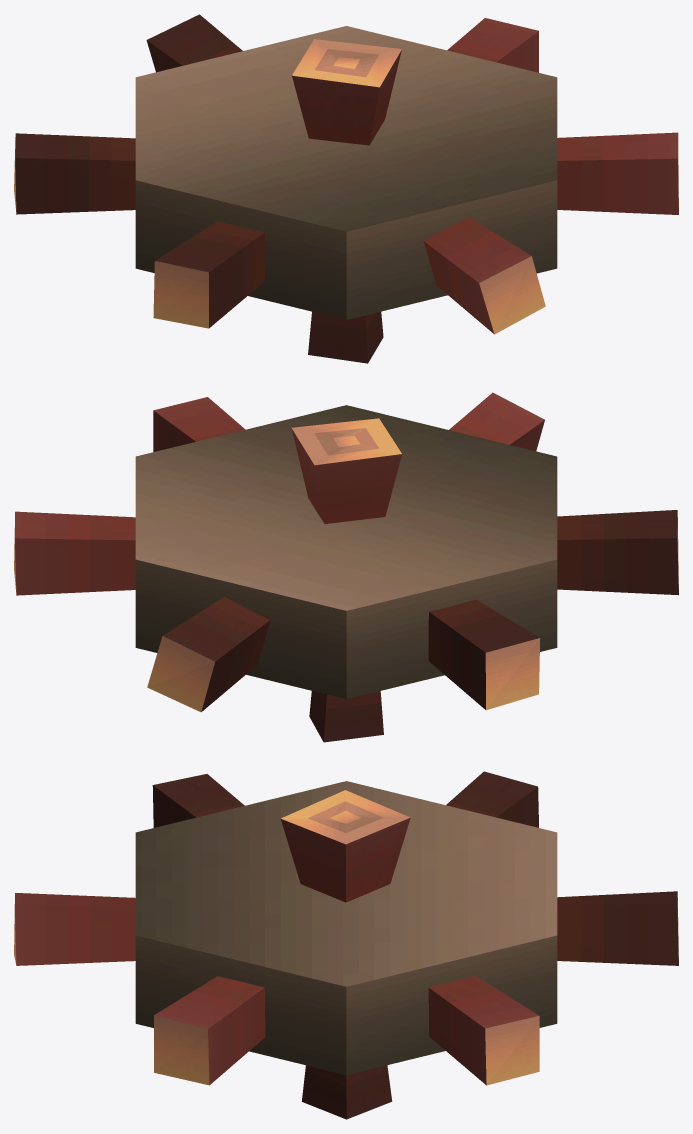
The model's file is Cog_Wheel_001.FBX.
The picture shows the model from 3 angles, top to bottom: view 1: azimuth 30°, elevation 25°; view 2: azimuth 150°, elevation 25°; view 3: azimuth 270°, elevation 25°; orthographic projection.
Parts seen in each view (by area): view 1: Cog_Wheel_001; view 2: Cog_Wheel_001; view 3: Cog_Wheel_001.
Part boxes in pixels (<box>): Cog_Wheel_001: <box>14,14,678,363</box>; Cog_Wheel_001: <box>14,392,678,742</box>; Cog_Wheel_001: <box>14,771,678,1119</box>.
Bounding box in the file's own units: 0.3113 × 0.3413 × 0.1615.
